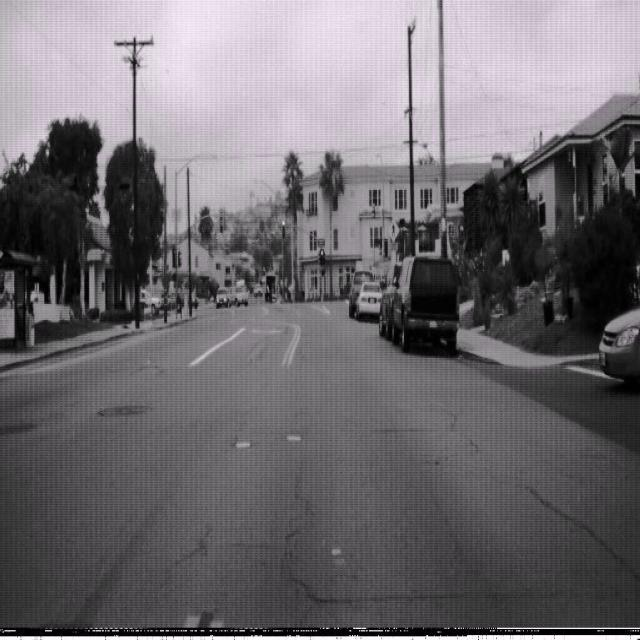pedestrianCrossing: (386, 216, 401, 244)
